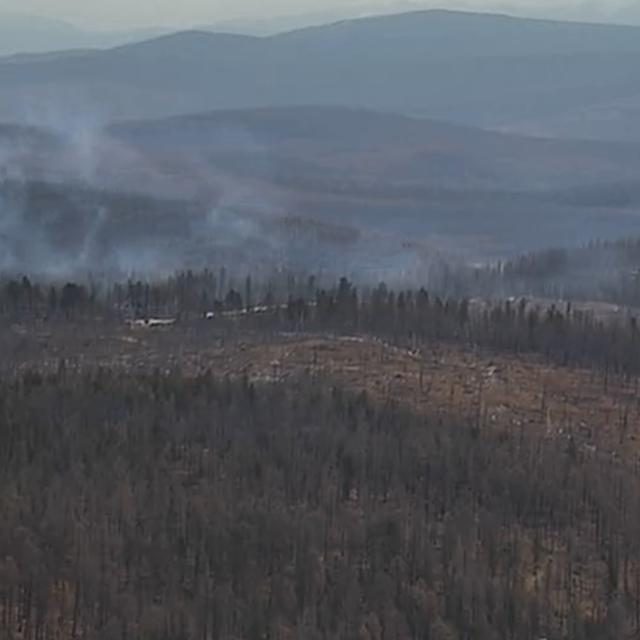Smoke: (0, 110, 640, 320)
